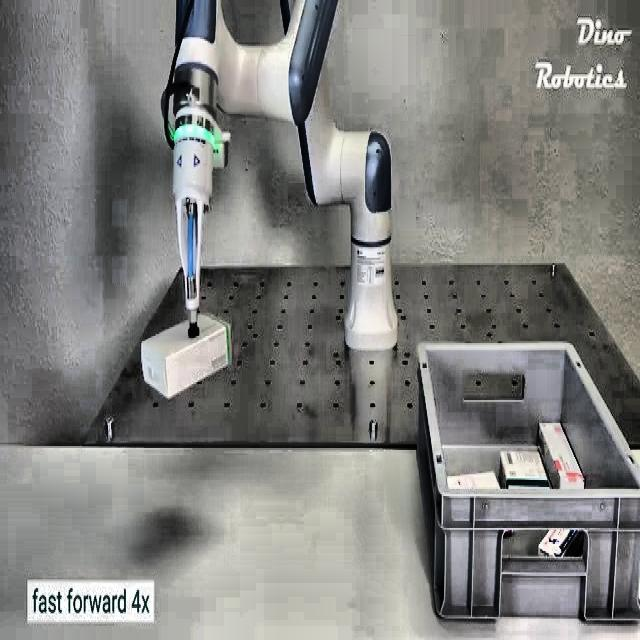robot: (139, 0, 398, 396)
